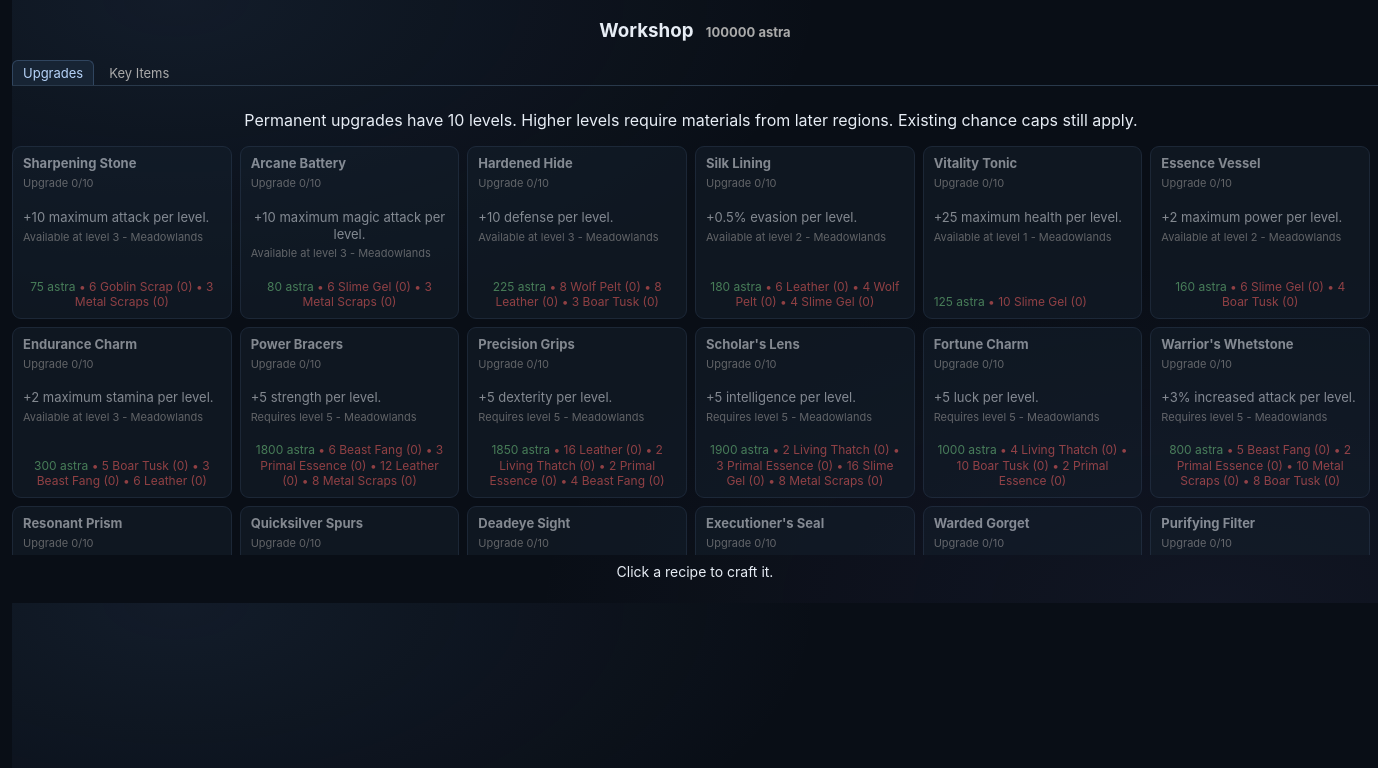
Test: workshop shows missing-resource failures and separates recipes into scrollable tab panels
Check: the button "Analyzer" is not shown
Click the button "Sharpening Stone".
click(122, 233)  # box top-left (12, 146), bottom-right (232, 319)
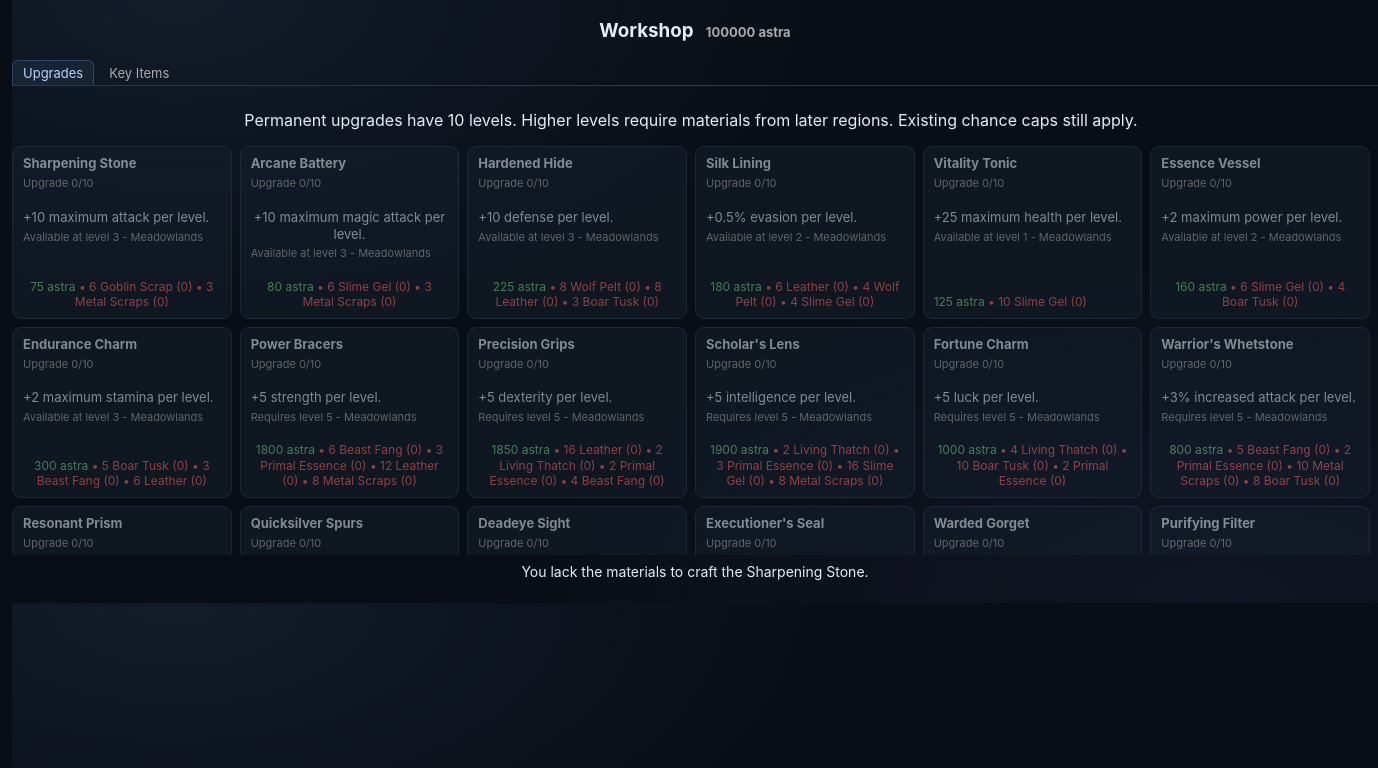
Check: the text "You lack the materials to craft the Sharpening Stone." is shown, box top-left (521, 563), bottom-right (869, 580)
Click the tab "Key Items".
click(139, 73)  # box top-left (98, 60), bottom-right (180, 85)
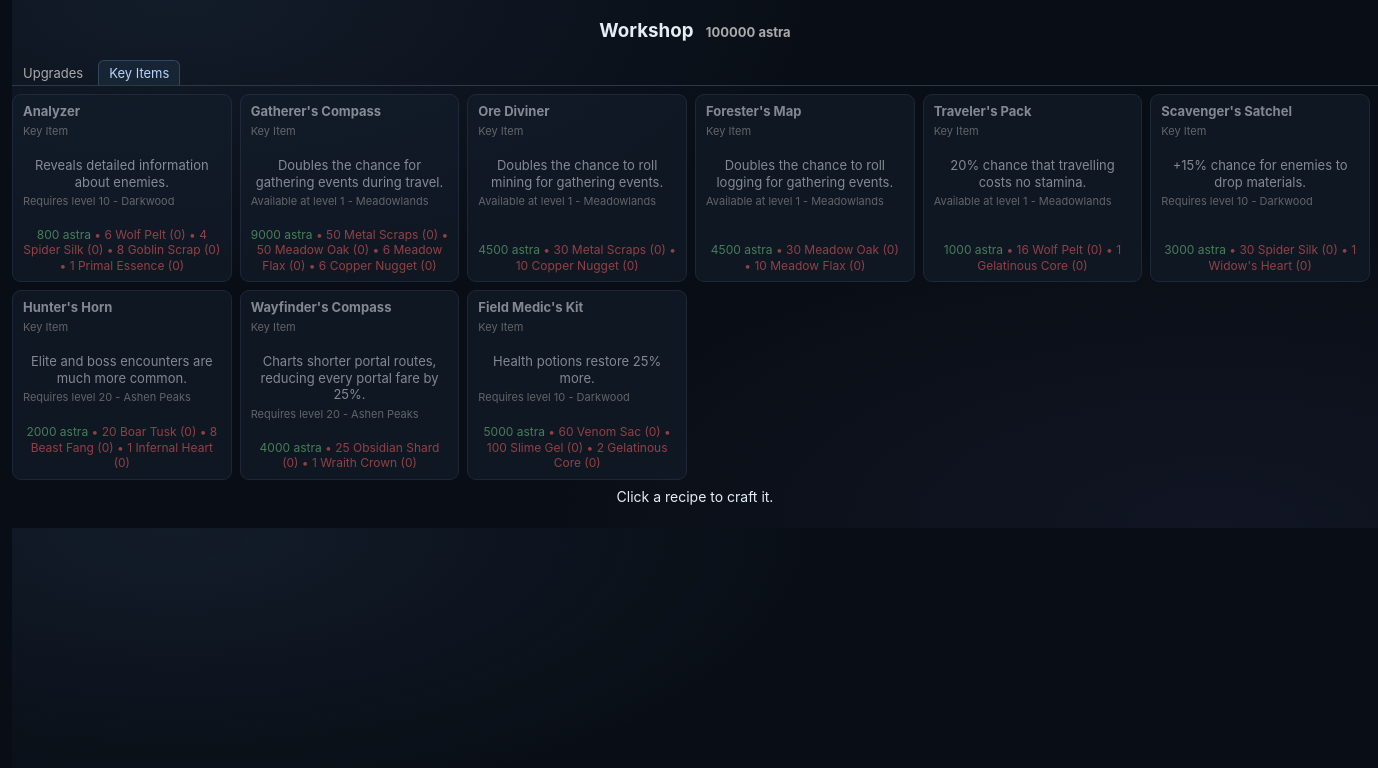
Check: the number of buttons is 9
Check: the button "Sharpening Stone" is gone
Check: the text "You lack the materials to craft the Sharpening Stone." is gone
Click the tab "Upgrades".
click(53, 73)  # box top-left (12, 60), bottom-right (94, 85)
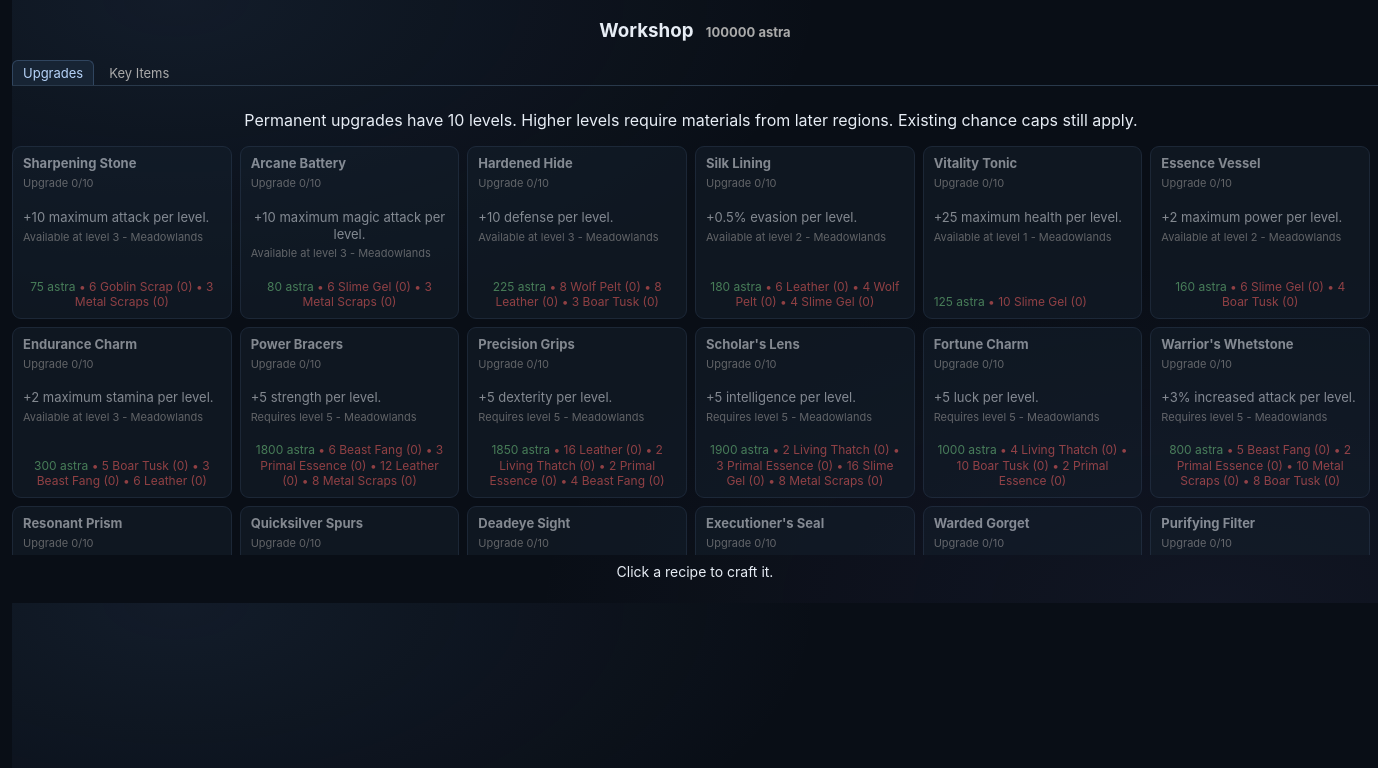
Check: the button "Sharpening Stone" is shown, box top-left (12, 146), bottom-right (232, 319)
